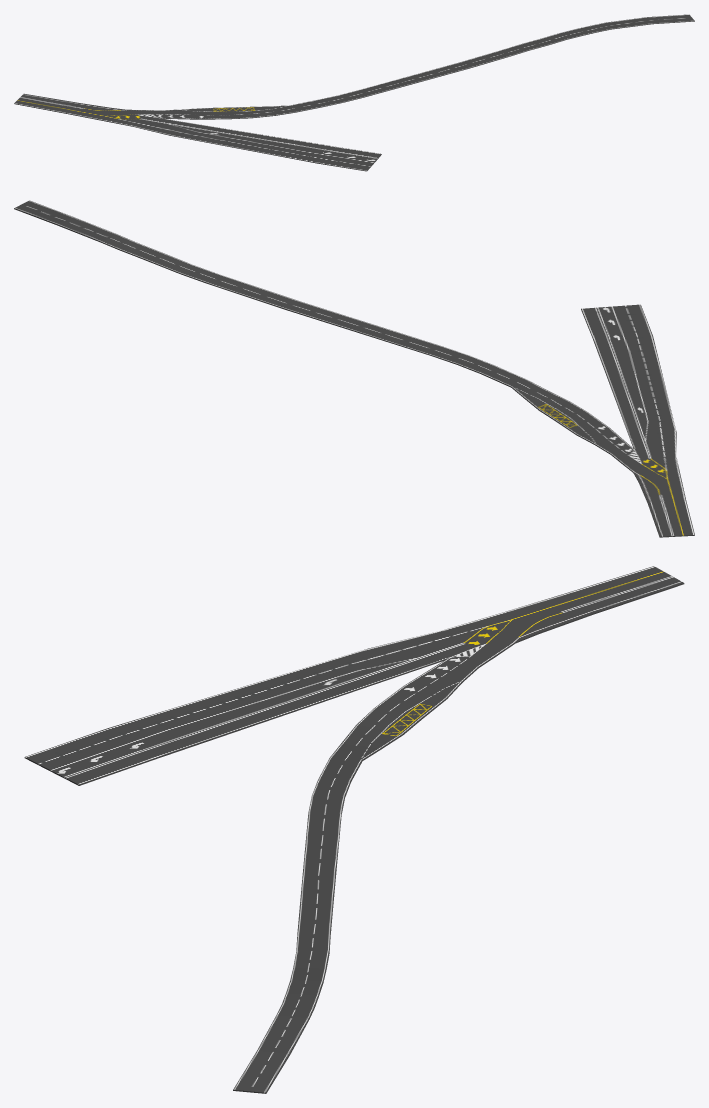
The model's file is zjazd.fbx.
3 views of the same model, one above another, from view 1: azimuth 30°, elevation 25°; view 2: azimuth 150°, elevation 25°; view 3: azimuth 270°, elevation 25° (orthographic). The views are drawn at different scales.
Visible parts, largest first — view 1: zjazd; view 2: zjazd; view 3: zjazd.
Part boxes in pixels (x1,y1,x2,y2): zjazd: (14, 14, 694, 171); zjazd: (14, 200, 694, 537); zjazd: (24, 566, 684, 1093).
Size of the model in its own units: 10666 by 21590 by 764.
